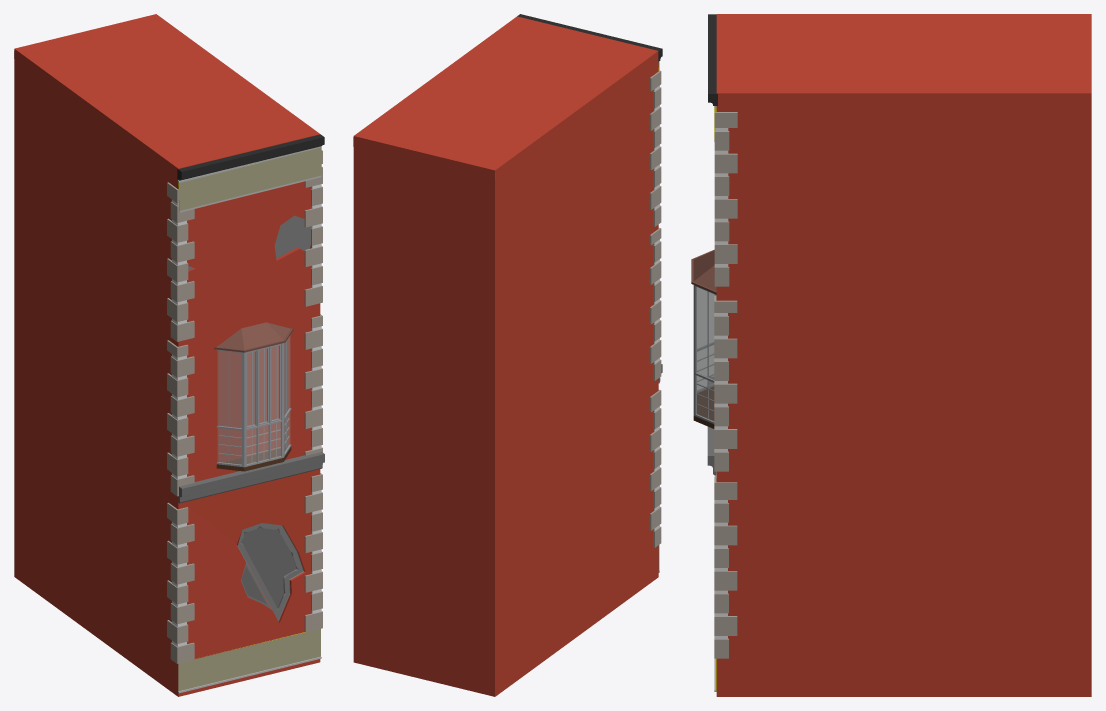
Rendered from last_build_1.fbx.
3 views of the same model, side by side, from view 1: azimuth 30°, elevation 25°; view 2: azimuth 150°, elevation 25°; view 3: azimuth 270°, elevation 25° (orthographic). The views are drawn at different scales.
Visible parts, largest first — view 1: Building_1; view 2: Building_1; view 3: Building_1.
Boxes of the visible parts, box(x1,y1,x2,y2) form: Building_1: box(14, 14, 324, 696); Building_1: box(353, 14, 662, 696); Building_1: box(691, 14, 1091, 696).
Bounding box in the file's own units: 46.17 × 160 × 96.08.
